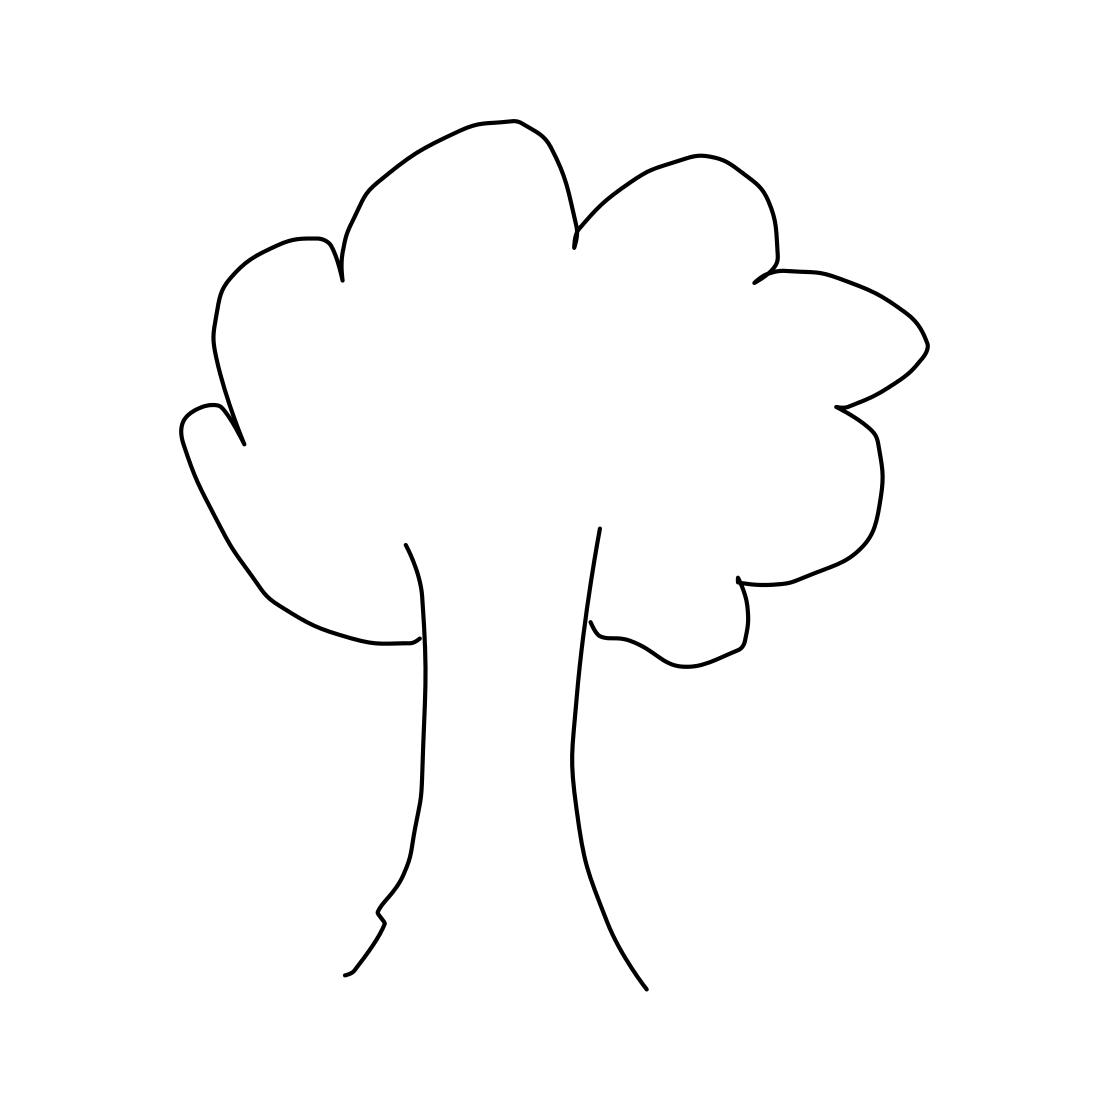Tree: (159, 82, 939, 1015)
